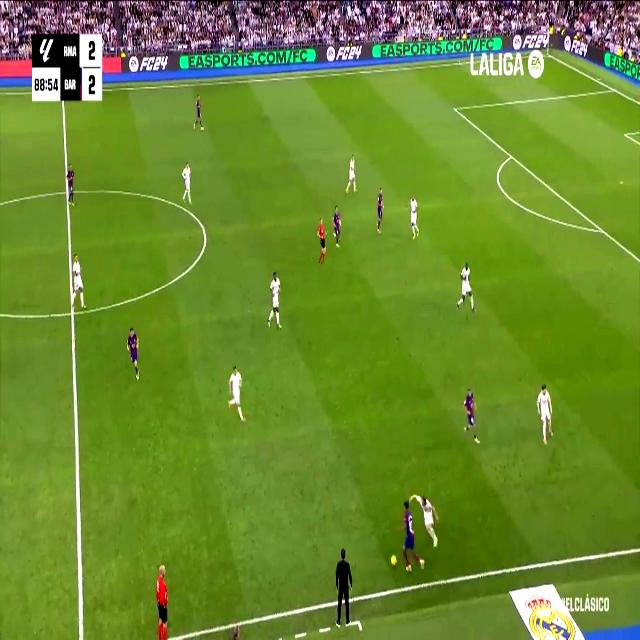bigarea_top_inner: (451, 100, 458, 116)
bottom_arc_area_intersection: (597, 221, 606, 239)
corner: (545, 49, 552, 59)
halfcircle_bottom: (66, 300, 78, 325)
halfcircle_top: (61, 182, 71, 202)
smallarea_top_inner: (622, 127, 628, 141)
top_arc_area_intersection: (507, 148, 515, 162)
